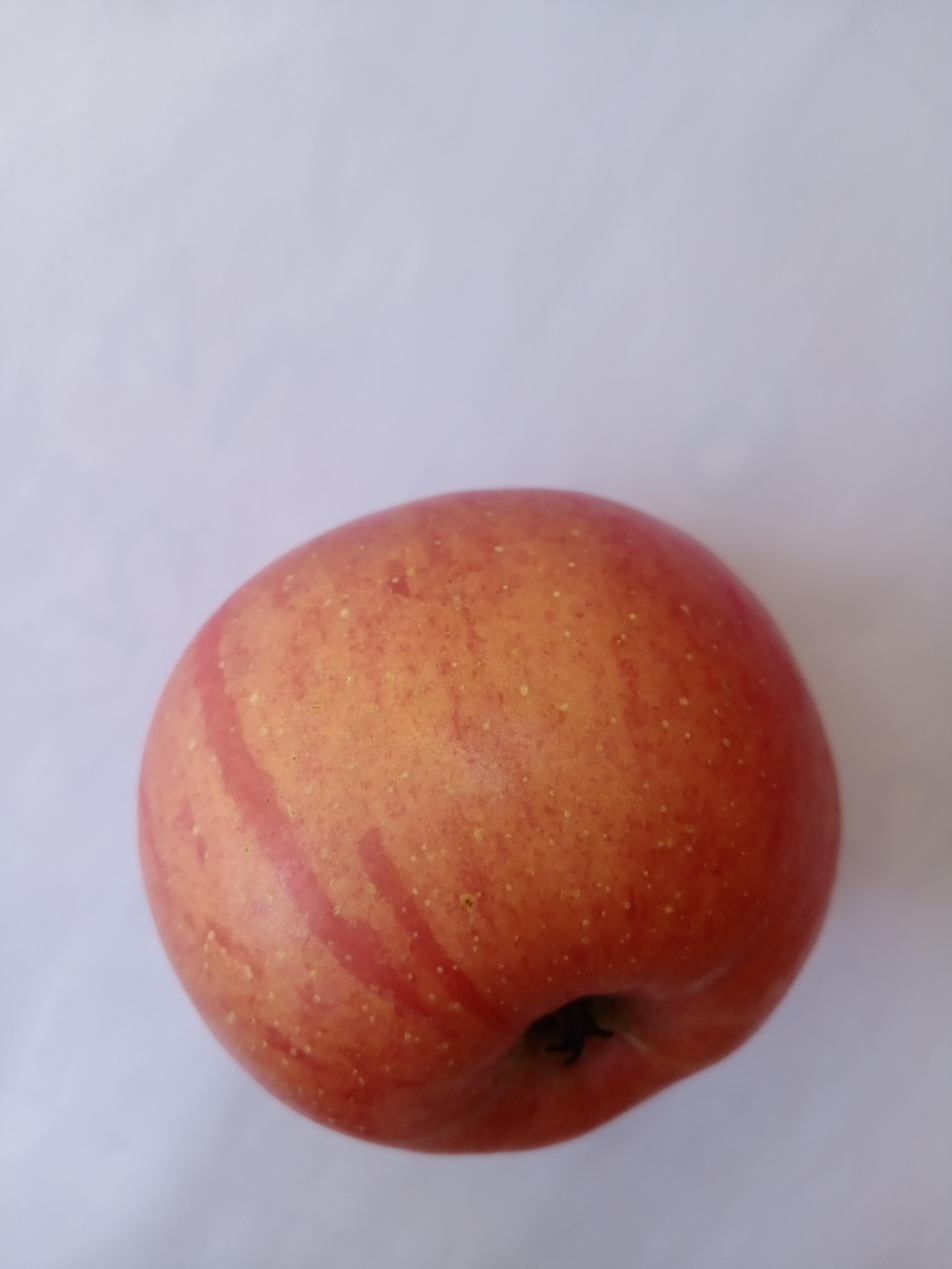Apple Ripe: (116, 463, 851, 1201)
